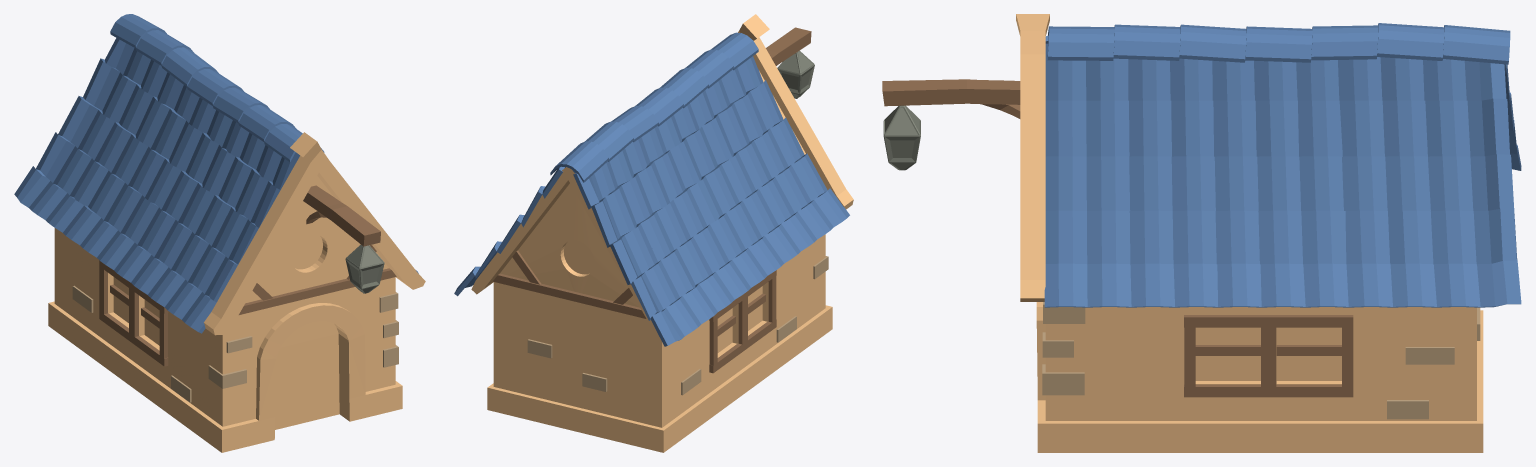
File: house1.fbx
3 views of the same model, side by side, from view 1: azimuth 30°, elevation 25°; view 2: azimuth 150°, elevation 25°; view 3: azimuth 270°, elevation 25° (orthographic). The views are drawn at different scales.
Visible parts, largest first — view 1: house_low, roof_low, roofTop_low, bred_low, blocks_low, lamp_low; view 2: house_low, roof_low, roofTop_low, bred_low, blocks_low, lamp_low; view 3: roof_low, house_low, roofTop_low, bred_low, blocks_low, lamp_low.
Part boxes in pixels (bbox=[...]): house_low: bbox=[48, 132, 425, 452]; roof_low: bbox=[14, 38, 418, 333]; roofTop_low: bbox=[110, 14, 324, 162]; bred_low: bbox=[99, 185, 396, 366]; blocks_low: bbox=[72, 285, 398, 402]; lamp_low: bbox=[345, 244, 384, 293]; house_low: bbox=[471, 14, 853, 452]; roof_low: bbox=[454, 56, 849, 346]; roofTop_low: bbox=[550, 32, 758, 182]; bred_low: bbox=[493, 27, 811, 373]; blocks_low: bbox=[527, 256, 828, 395]; lamp_low: bbox=[777, 50, 814, 98]; roof_low: bbox=[1044, 35, 1521, 307]; house_low: bbox=[1016, 14, 1483, 452]; roofTop_low: bbox=[1047, 23, 1510, 64]; bred_low: bbox=[882, 79, 1353, 397]; blocks_low: bbox=[1042, 302, 1480, 419]; lamp_low: bbox=[883, 105, 920, 170].
Bounding box in the file's own units: 1865 × 2322 × 3537.
